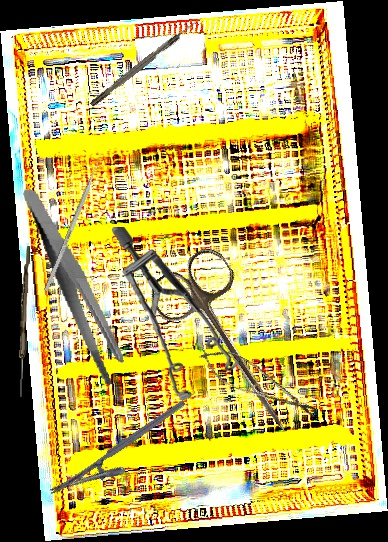Dressing Forceps: (22, 177, 128, 395)
Hook Surgical: (88, 19, 199, 108)
Iris Scissors: (142, 241, 323, 452)
Micro Scissor: (191, 338, 325, 427)
Needle Holder: (48, 399, 199, 514)
Pusher: (43, 149, 106, 292)
Speculum: (106, 226, 245, 403)
Surgical Spoon: (17, 245, 31, 398)
